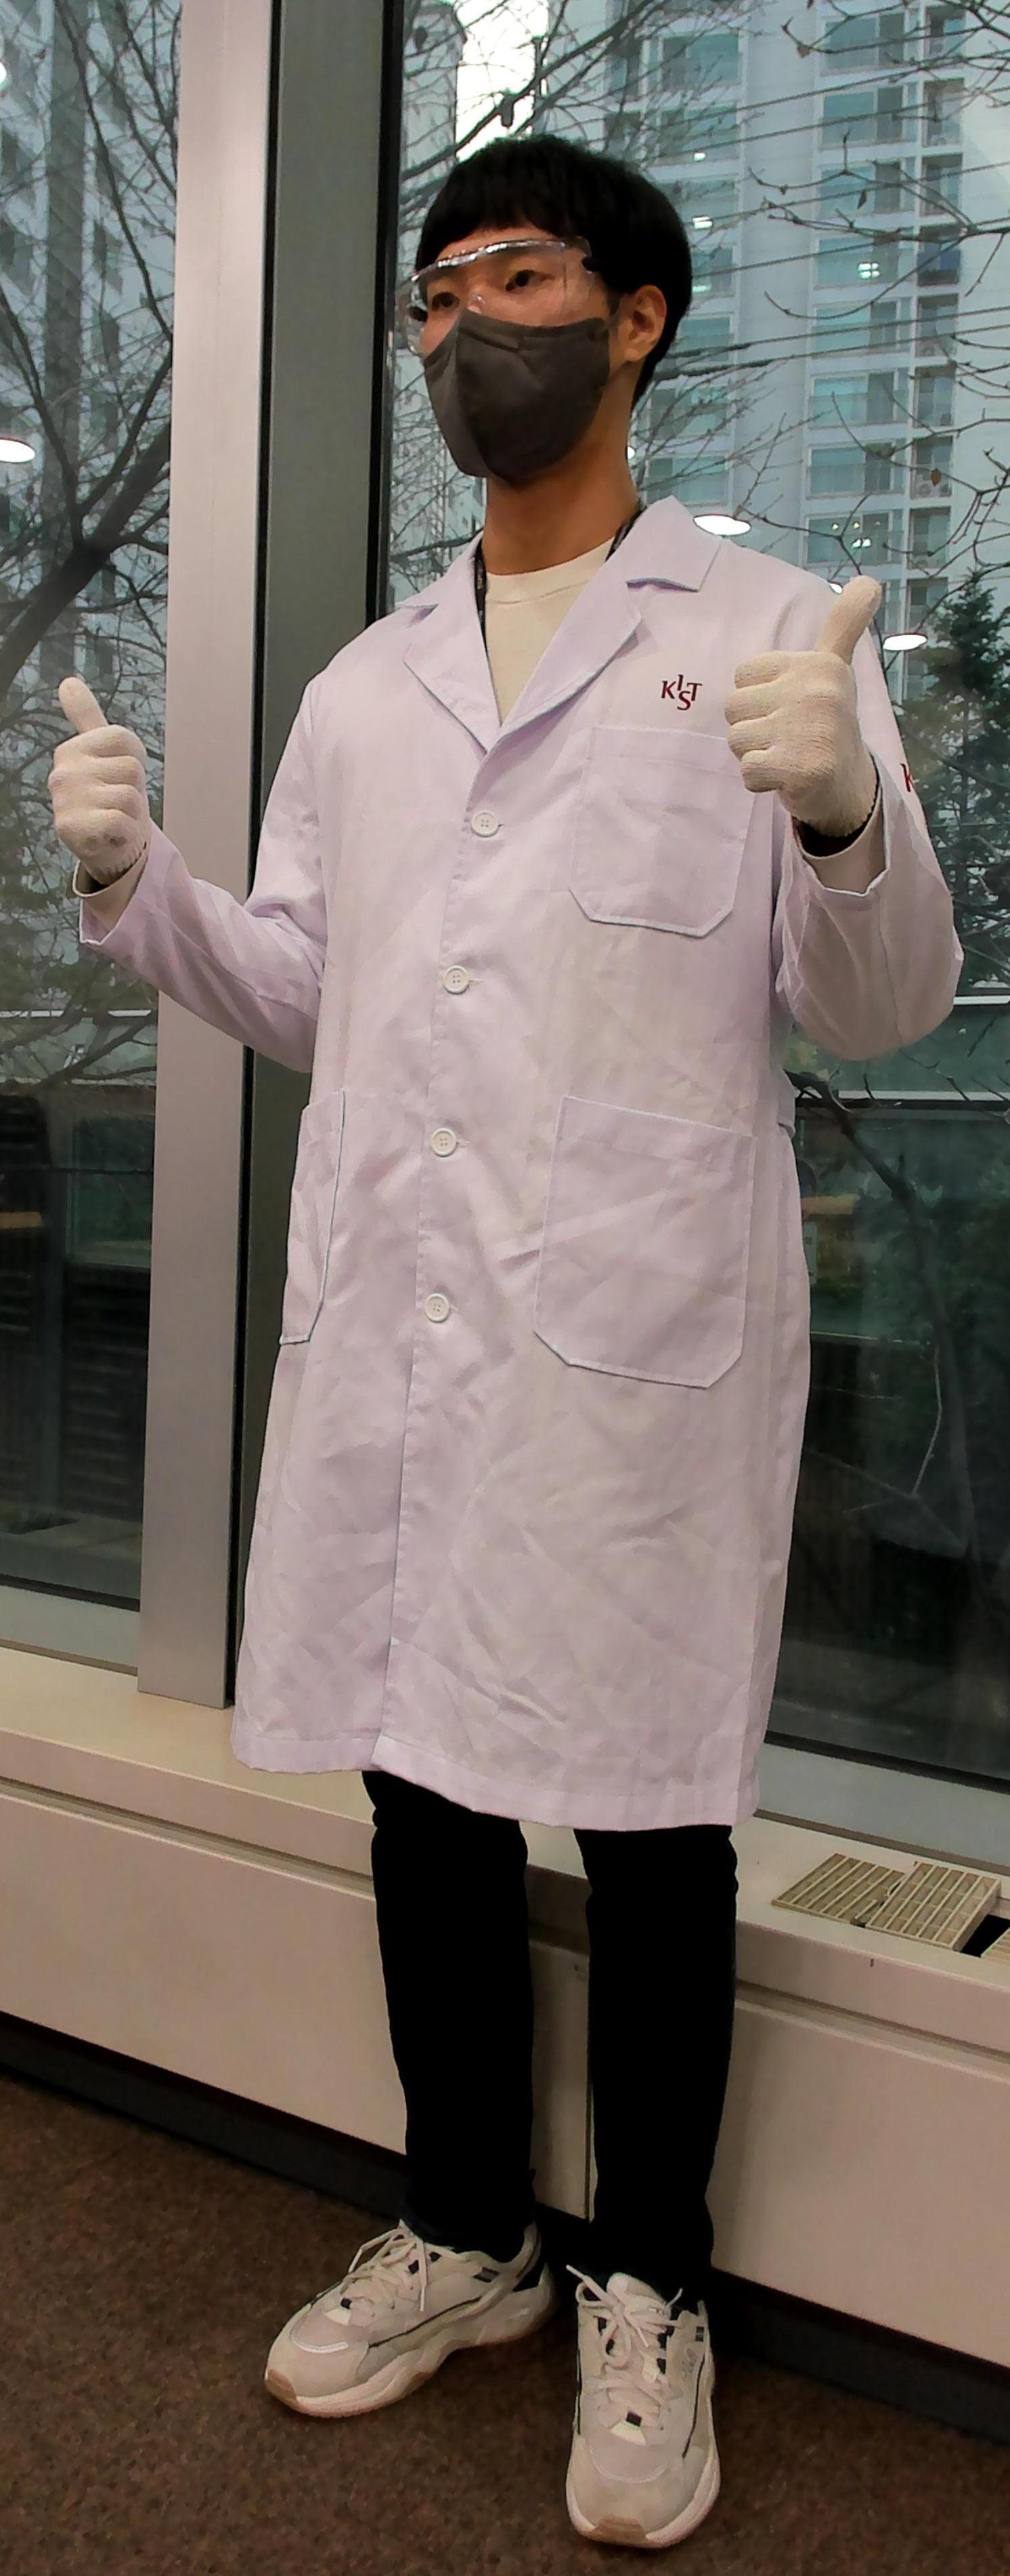lab_coat: (266, 522, 752, 1820)
